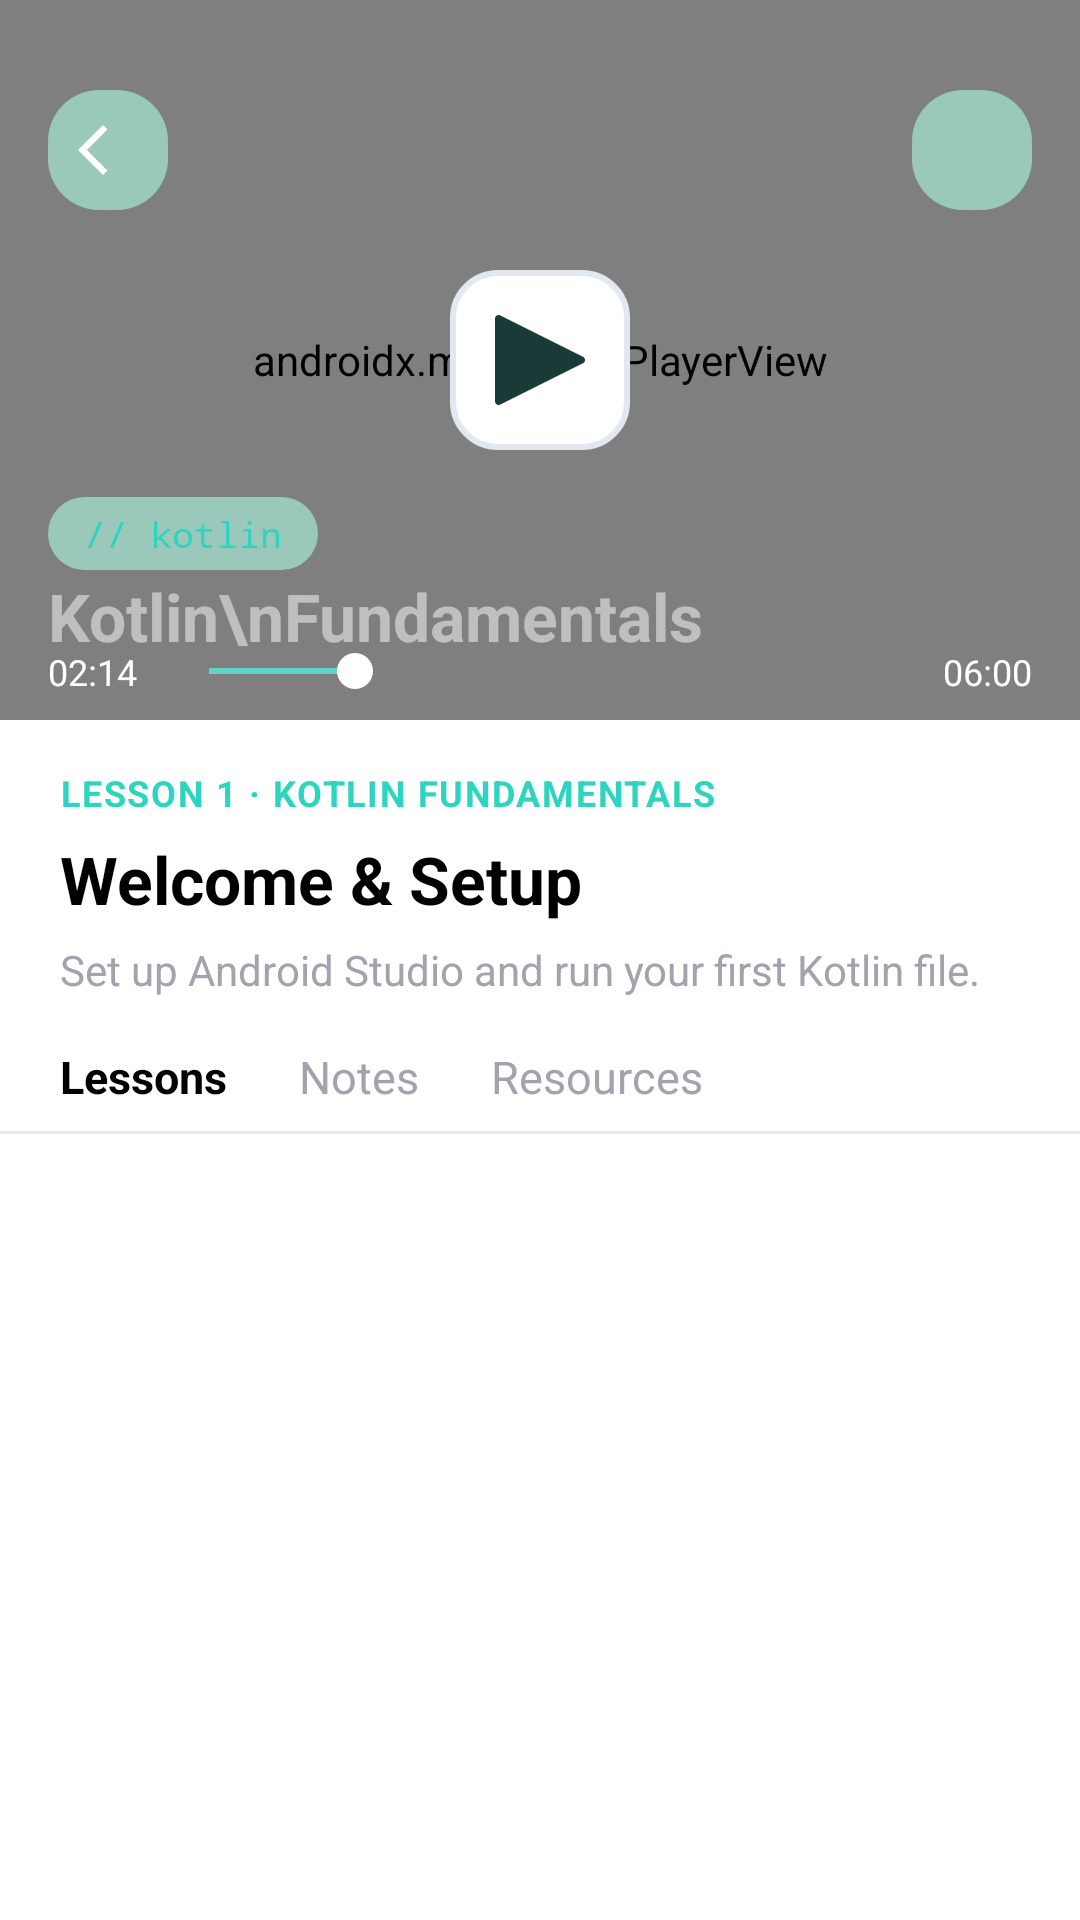

Icon bounding boxes for this 1080x1920 phone screenshot, format (x1, y1, x2, y2):
arrow back: (48, 90, 168, 210)
